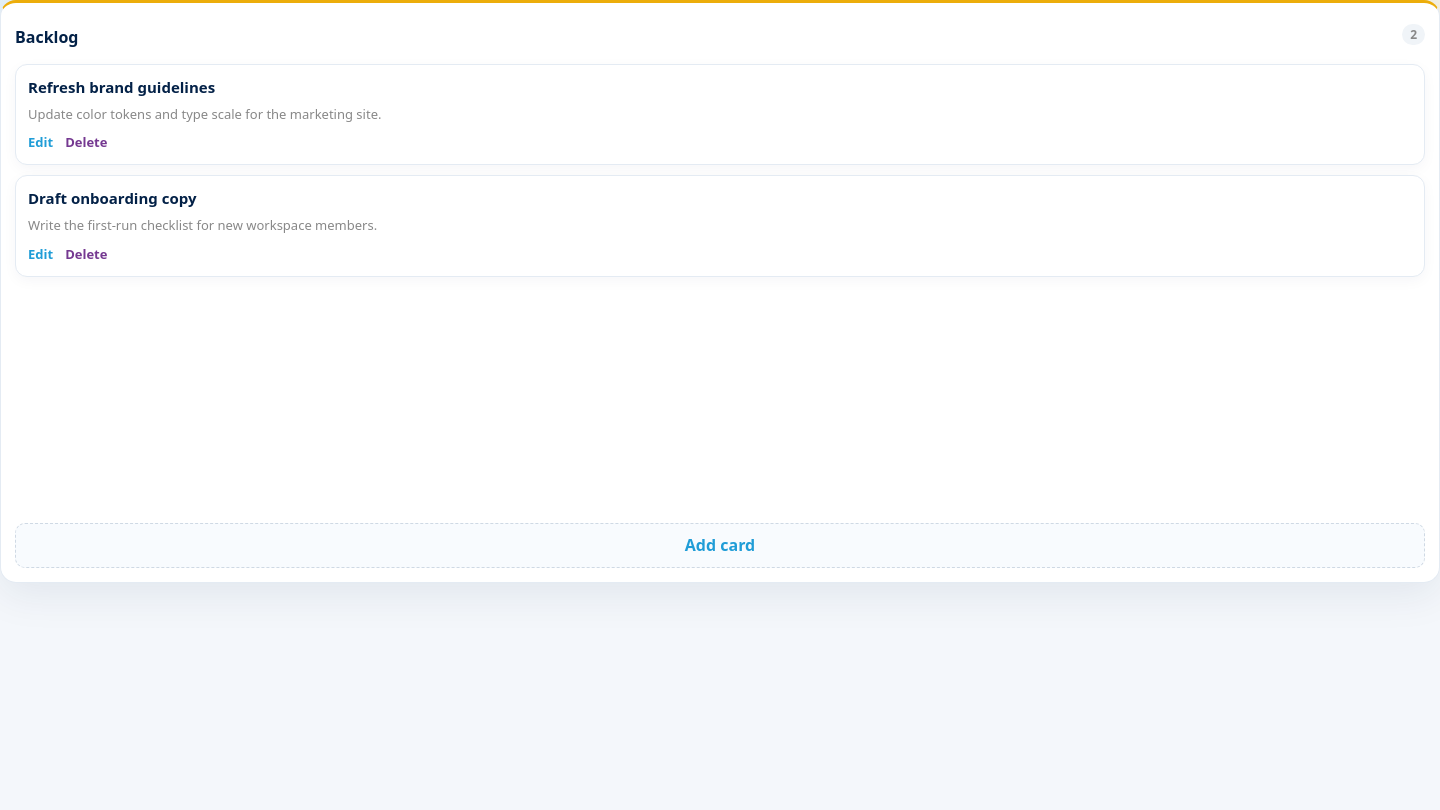
Scenario: ColumnView › restores the title when the rename is blank
This screenshot has width=1440, height=810.
Click the button with test id "column-title-col-backlog".
click(47, 38)  # box [15,26,78,49]
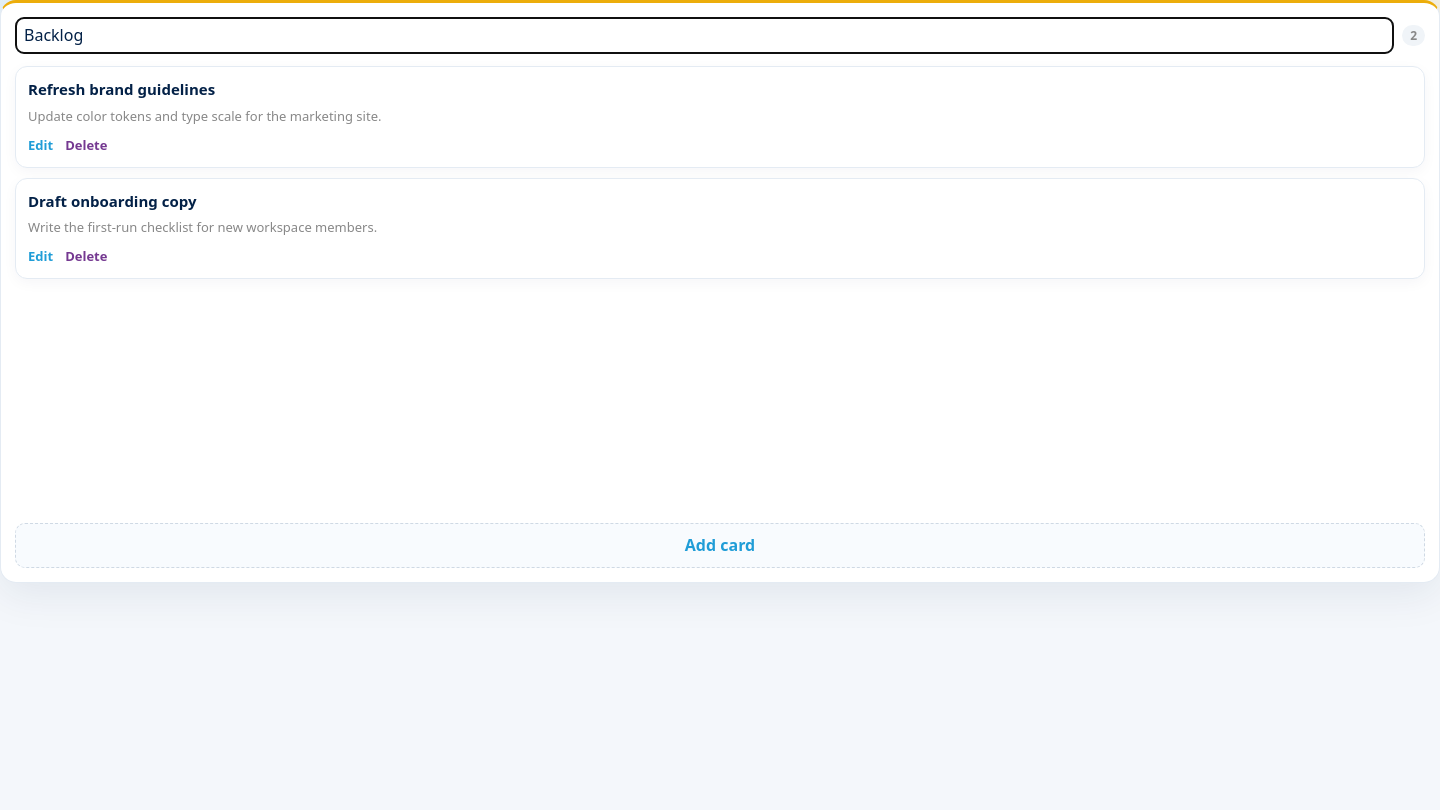
Clear the field with test id "column-title-input-col-backlog" at (705, 36), box [15,17,1394,54]
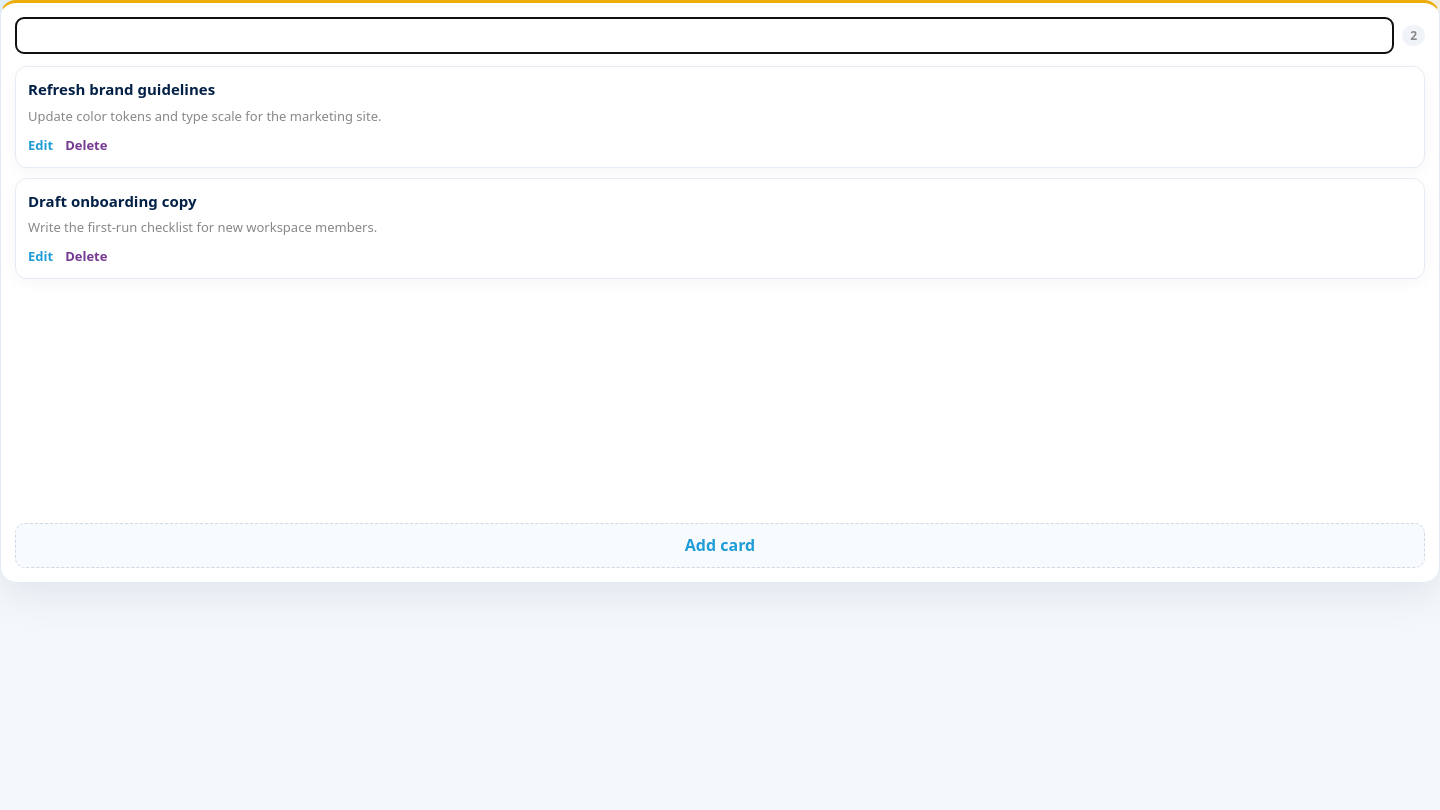
Press Tab
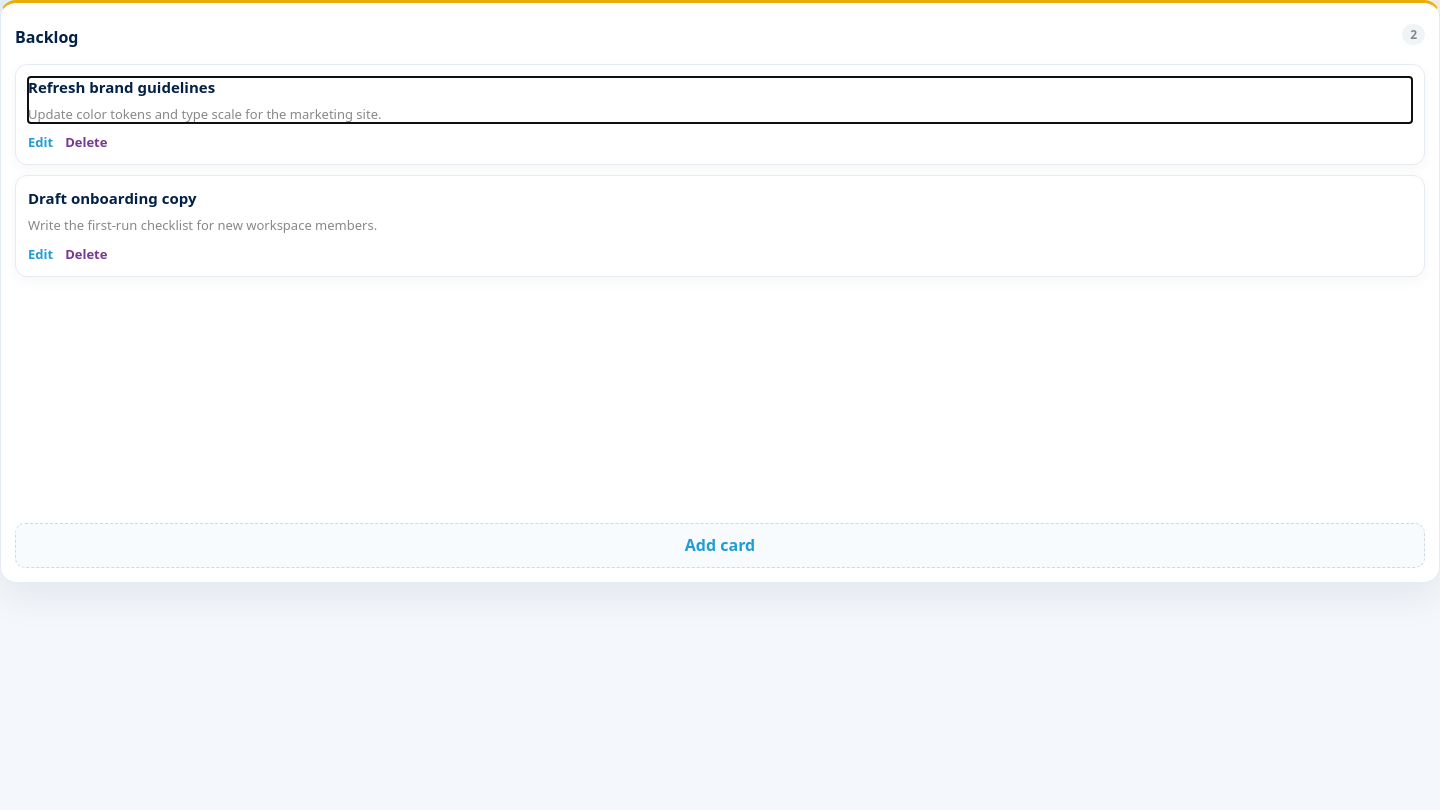
Now the button with test id "column-title-col-backlog" reads "Backlog", box [15,26,78,49]
